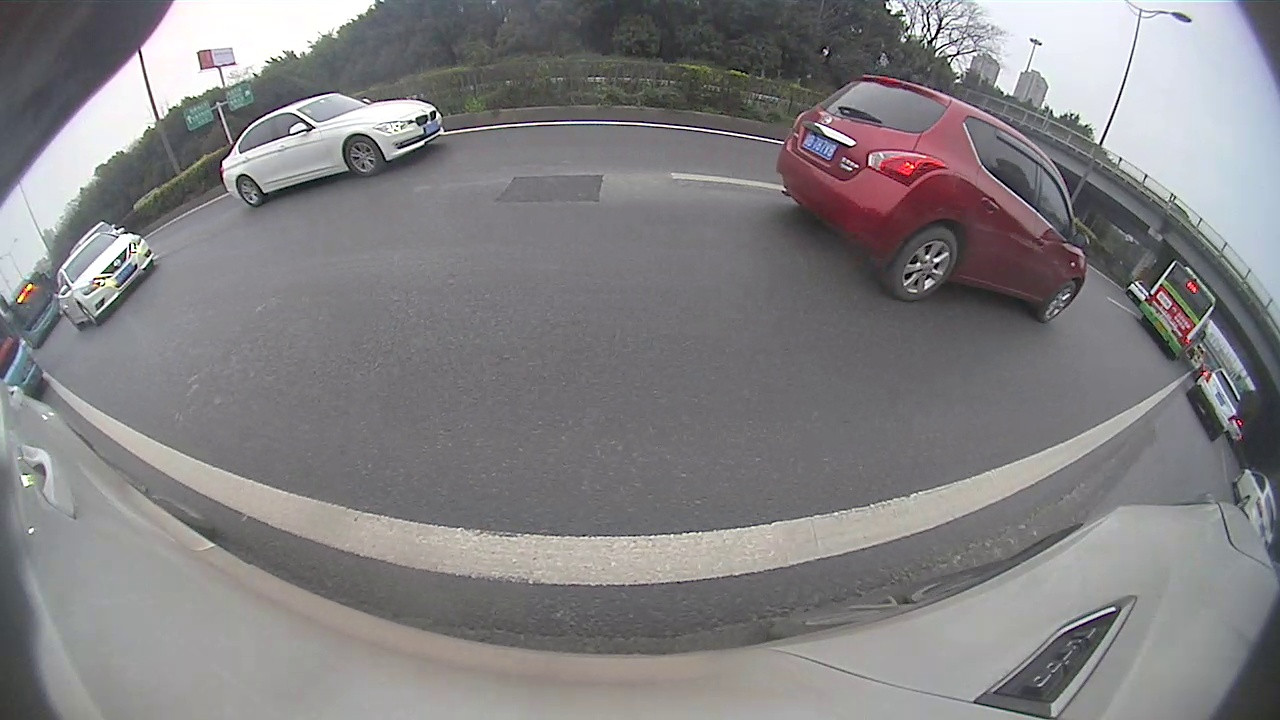bus: (1137, 258, 1217, 361)
car: (773, 72, 1087, 324), (219, 91, 443, 206), (55, 229, 157, 329), (1187, 367, 1242, 442)
front: (344, 134, 385, 179), (1040, 278, 1077, 325)
rear: (885, 227, 957, 303), (235, 174, 264, 208)
